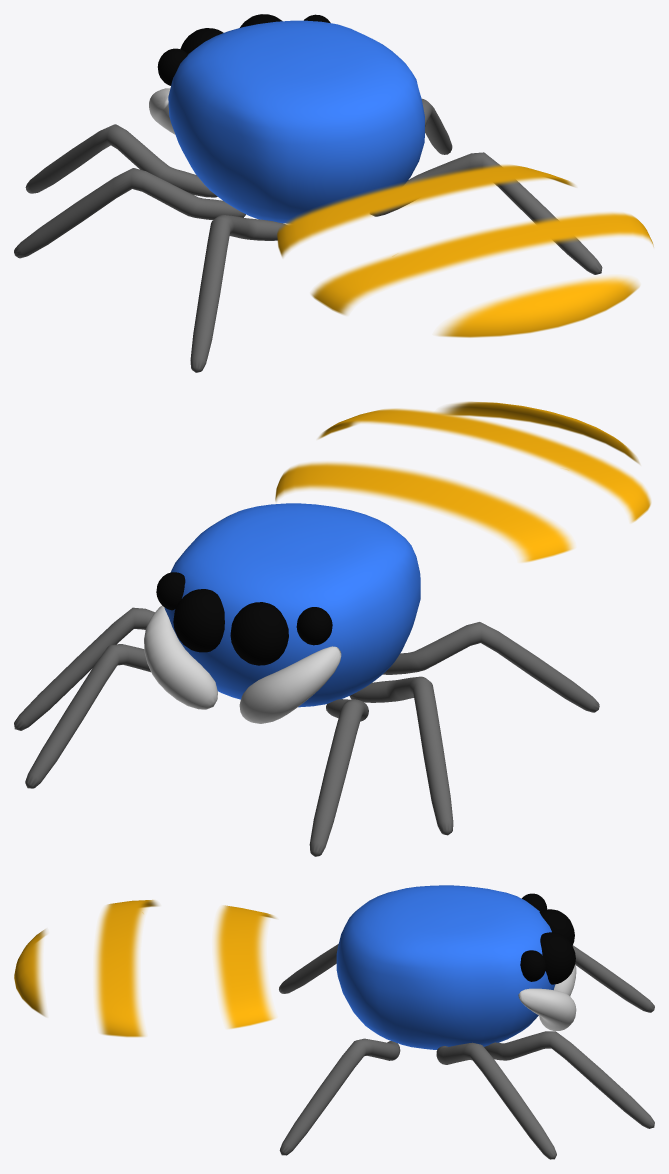
The model's file is Spider26.glb.
3 views of the same model, one above another, from view 1: azimuth 30°, elevation 25°; view 2: azimuth 150°, elevation 25°; view 3: azimuth 270°, elevation 25° (orthographic). The views are drawn at different scales.
Visible parts, largest first — view 1: Head, Butt, Leg.003, Leg.005, Leg.001, Leg.004, Leg.002, Pincer.001, Eye.002, Eye; view 2: Head, Butt, Leg.005, Leg.003, Pincer.001, Pincer, Leg, Leg.001, Leg.002, Eye, Eye.001, Eye.002 (+1 smaller); view 3: Head, Butt, Leg, Leg.004, Leg.002, Pincer, Leg.001, Eye.001, Leg.005, Eye.003, Eye.
Part boxes in pixels (<box>): Head: <box>168,20,424,223</box>; Butt: <box>277,164,653,337</box>; Leg.003: <box>14,168,245,258</box>; Leg.005: <box>190,215,286,372</box>; Leg.001: <box>25,124,217,197</box>; Leg.004: <box>370,152,602,274</box>; Leg.002: <box>422,98,452,154</box>; Pincer.001: <box>149,88,175,134</box>; Eye.002: <box>157,48,188,85</box>; Eye: <box>180,28,223,53</box>; Head: <box>164,503,420,707</box>; Butt: <box>275,401,650,562</box>; Leg.005: <box>383,622,599,712</box>; Leg.003: <box>349,676,453,835</box>; Pincer.001: <box>239,646,341,723</box>; Pincer: <box>144,605,217,709</box>; Leg: <box>25,644,150,788</box>; Leg.001: <box>309,699,368,856</box>; Leg.002: <box>14,607,154,730</box>; Eye: <box>230,602,288,665</box>; Eye.001: <box>173,589,224,652</box>; Eye.002: <box>296,607,332,645</box>; Head: <box>336,885,555,1049</box>; Butt: <box>14,900,275,1037</box>; Leg: <box>484,1031,654,1128</box>; Leg.004: <box>279,1038,400,1155</box>; Leg.002: <box>436,1042,556,1159</box>; Pincer: <box>518,988,576,1030</box>; Leg.001: <box>572,945,654,1012</box>; Eye.001: <box>540,932,575,984</box>; Leg.005: <box>279,944,338,993</box>; Eye.003: <box>520,950,546,981</box>; Eye: <box>539,909,574,945</box>.
Bounding box in the file's own units: 0.3311 × 0.1445 × 0.5081.
5 materials, 1 textured.
